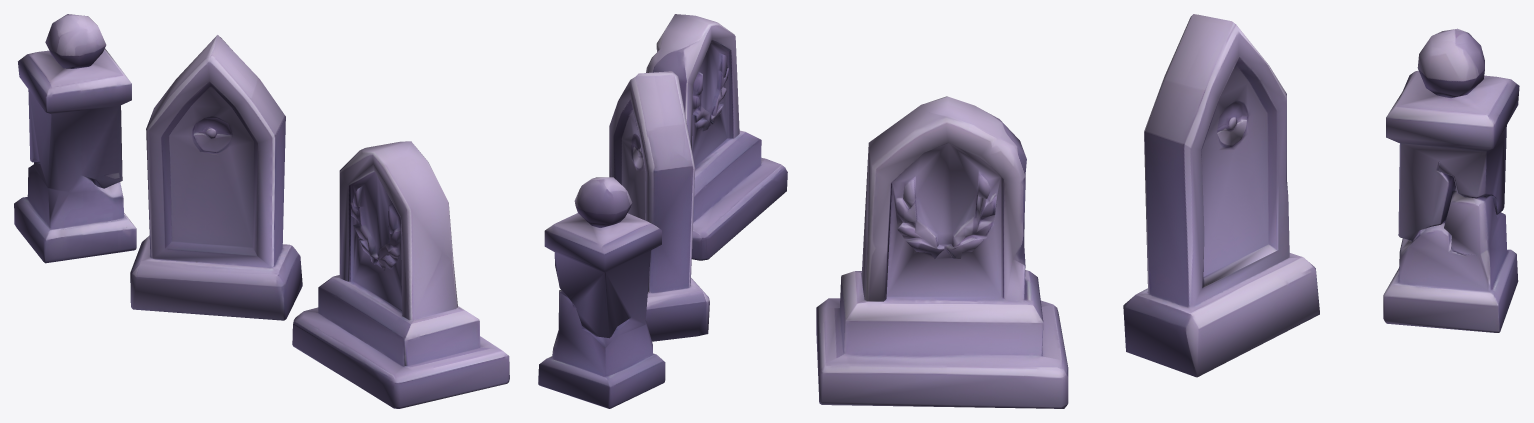
3 renders of one model, left to right at view 1: azimuth 30°, elevation 25°; view 2: azimuth 150°, elevation 25°; view 3: azimuth 270°, elevation 25°, orthographic. The views are drawn at different scales.
Parts seen in each view (by area): view 1: tripo_node_8d6c68d7-5090-4a0f-bb6a-cb21d3821086; view 2: tripo_node_8d6c68d7-5090-4a0f-bb6a-cb21d3821086; view 3: tripo_node_8d6c68d7-5090-4a0f-bb6a-cb21d3821086.
Boxes of the visible parts, x1,y1,x2,y2 form: tripo_node_8d6c68d7-5090-4a0f-bb6a-cb21d3821086: [14, 14, 509, 408]; tripo_node_8d6c68d7-5090-4a0f-bb6a-cb21d3821086: [538, 14, 787, 408]; tripo_node_8d6c68d7-5090-4a0f-bb6a-cb21d3821086: [816, 14, 1519, 408].
Size of the model in its own units: 0.4521 by 0.499 by 1.
1 material, 1 textured.
